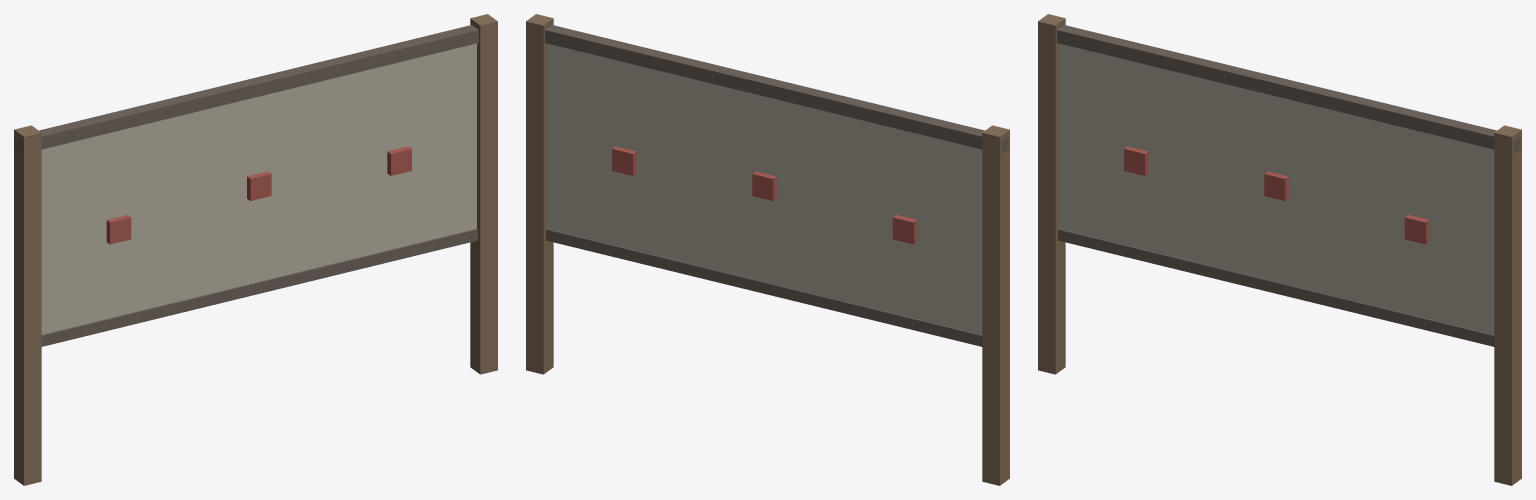
The model's file is net.glb.
3 renders of one model, left to right at view 1: azimuth 30°, elevation 25°; view 2: azimuth 150°, elevation 25°; view 3: azimuth 330°, elevation 25°, orthographic.
Parts seen in each view (by area): view 1: net; view 2: net; view 3: net.
Boxes of the visible parts, x1,y1,x2,y2 form: net: (14, 14, 497, 485); net: (526, 14, 1009, 485); net: (1038, 14, 1521, 485).
Size of the model in its own units: 2.7 by 1.9 by 0.1.
